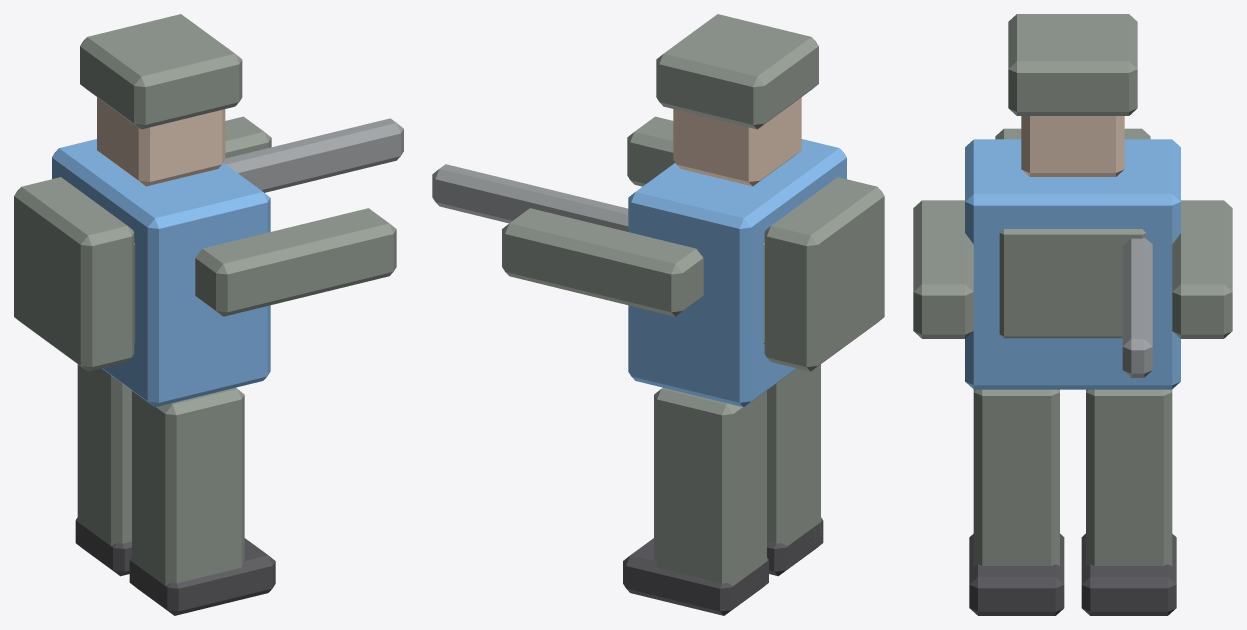
File: rifleman.glb
3 renders of one model, left to right at view 1: azimuth 30°, elevation 25°; view 2: azimuth 150°, elevation 25°; view 3: azimuth 270°, elevation 25°, orthographic. The views are drawn at different scales.
Visible parts, largest first — view 1: rifleman; view 2: rifleman; view 3: rifleman.
Boxes of the visible parts, x1,y1,x2,y2 form: rifleman: [14, 14, 403, 615]; rifleman: [432, 14, 884, 615]; rifleman: [913, 14, 1232, 615].
Size of the model in its own units: 1.06 by 1.4 by 0.74.
